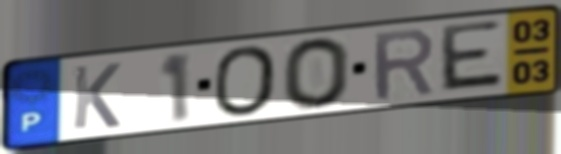1: (157, 50, 192, 126)
E: (435, 17, 507, 94)
K: (70, 60, 124, 132)
O: (279, 35, 353, 112), (212, 42, 280, 118)
R: (369, 25, 437, 105)
